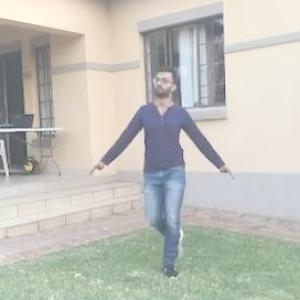land: (92, 70, 232, 274)
